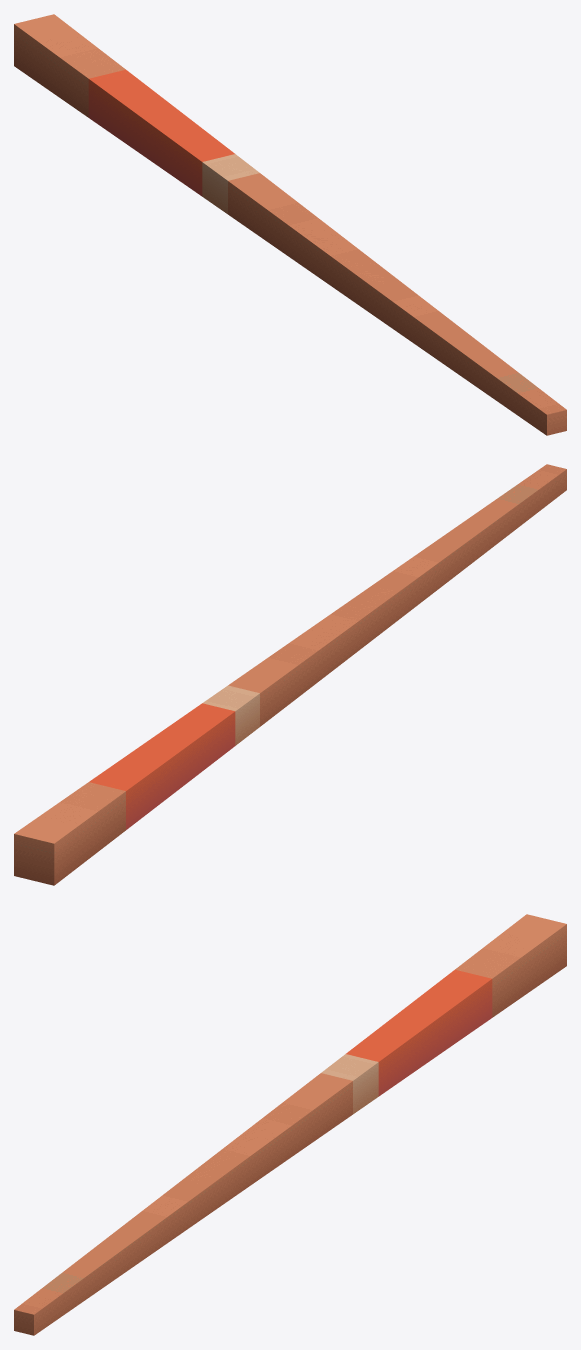
Rendered from chopstic-decorative.glb.
3 renders of one model, top to bottom at view 1: azimuth 30°, elevation 25°; view 2: azimuth 150°, elevation 25°; view 3: azimuth 330°, elevation 25°, orthographic.
Parts seen in each view (by area): view 1: chopstic-decorative; view 2: chopstic-decorative; view 3: chopstic-decorative.
Boxes of the visible parts, x1,y1,x2,y2 form: chopstic-decorative: (14, 14, 566, 435); chopstic-decorative: (14, 464, 566, 885); chopstic-decorative: (14, 914, 566, 1335).
Size of the model in its own units: 0.02 by 0.02 by 0.45.
Materials: 1 (1 with a texture image).
